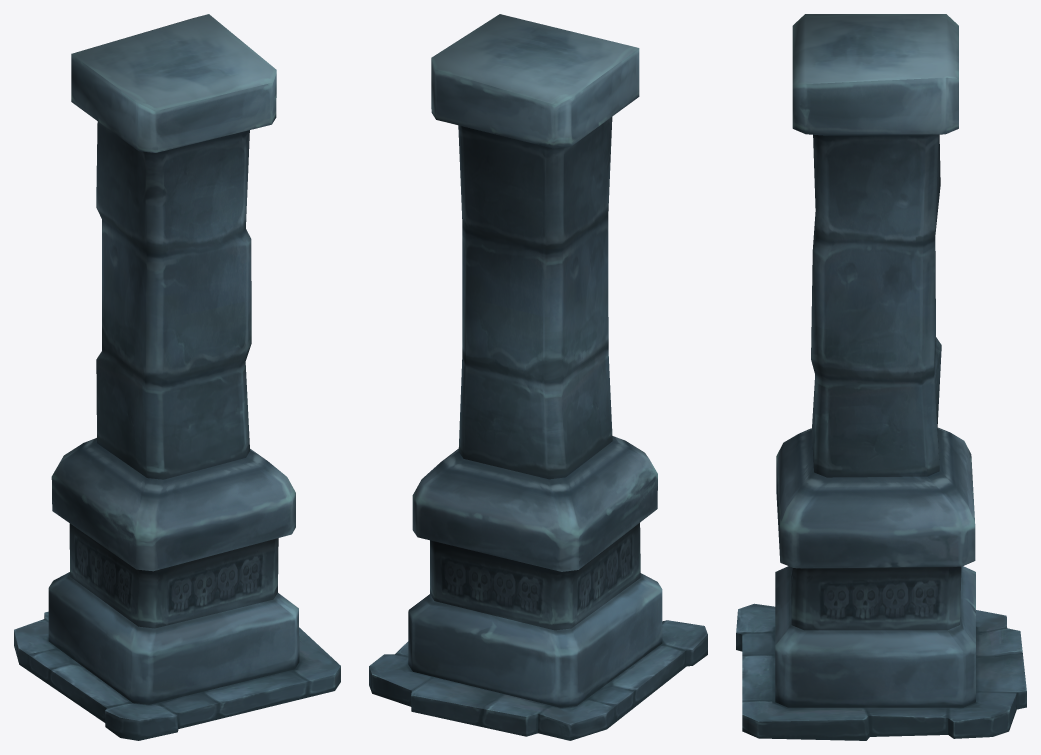
Rendered from dungeon_pillar.fbx.
3 views of the same model, side by side, from view 1: azimuth 30°, elevation 25°; view 2: azimuth 150°, elevation 25°; view 3: azimuth 270°, elevation 25° (orthographic). The views are drawn at different scales.
Visible parts, largest first — view 1: dungoen_pillar; view 2: dungoen_pillar; view 3: dungoen_pillar.
Part boxes in pixels (x1,y1,x2,y2): dungoen_pillar: [14, 14, 340, 740]; dungoen_pillar: [369, 14, 707, 740]; dungoen_pillar: [736, 14, 1026, 740].
Size of the model in its own units: 80.84 by 207 by 85.35.
Materials: 1 (1 with a texture image).
